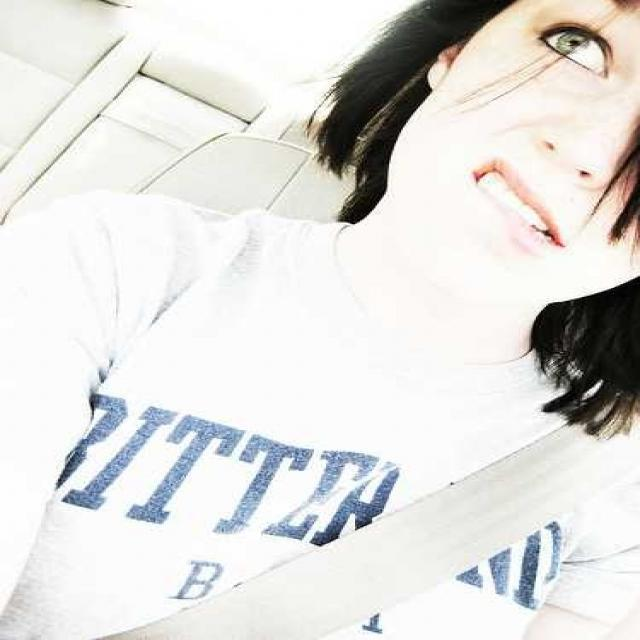seatbelt: (234, 397, 586, 621)
